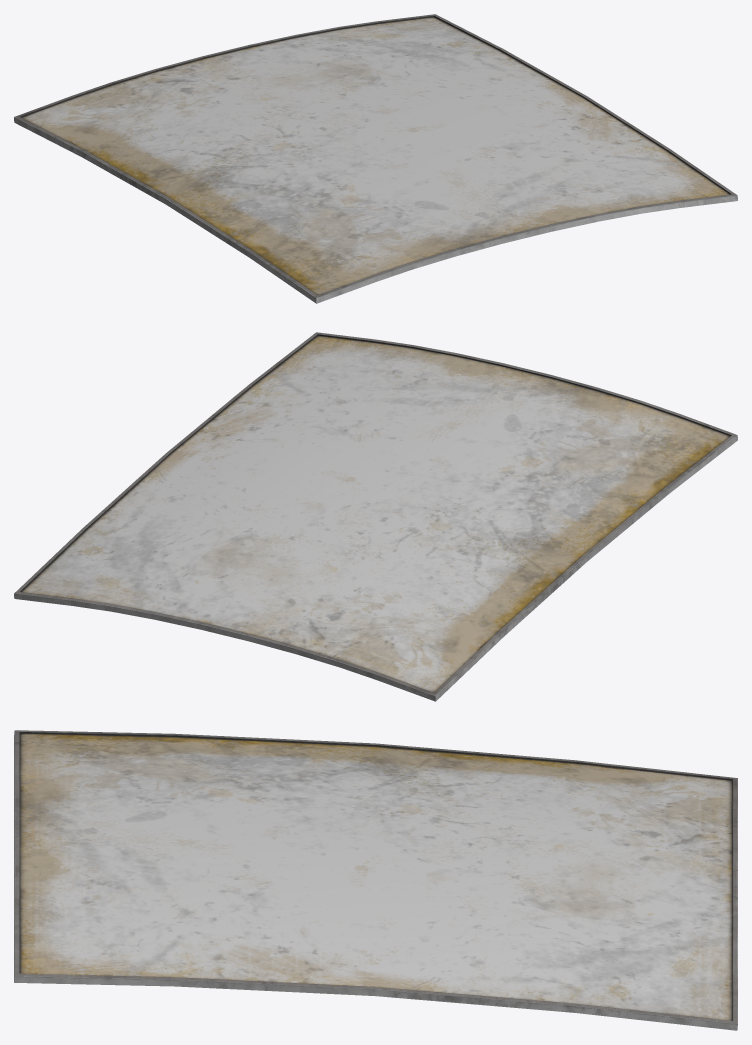
File: SM_Tribines_Roofs_A.fbx
3 views of the same model, one above another, from view 1: azimuth 30°, elevation 25°; view 2: azimuth 150°, elevation 25°; view 3: azimuth 270°, elevation 25° (orthographic). The views are drawn at different scales.
Visible parts, largest first — view 1: SM_Tribines_Roofs_A_LOD0; view 2: SM_Tribines_Roofs_A_LOD0; view 3: SM_Tribines_Roofs_A_LOD0.
Part boxes in pixels (x1,y1,x2,y2): SM_Tribines_Roofs_A_LOD0: (14,14,737,303); SM_Tribines_Roofs_A_LOD0: (14,332,737,701); SM_Tribines_Roofs_A_LOD0: (14,730,737,1030).
Bounding box in the file's own units: 480 × 597 × 65.65.
1 material, 1 textured.
